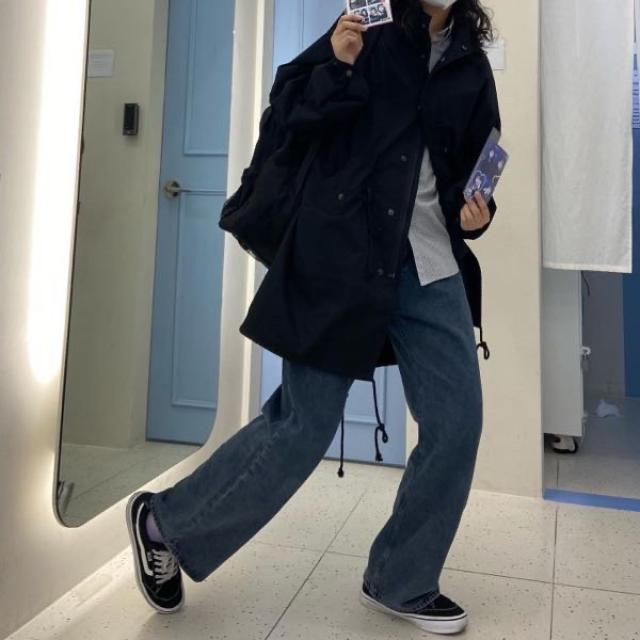coat: (230, 1, 492, 382)
denimpants: (150, 226, 483, 609)
